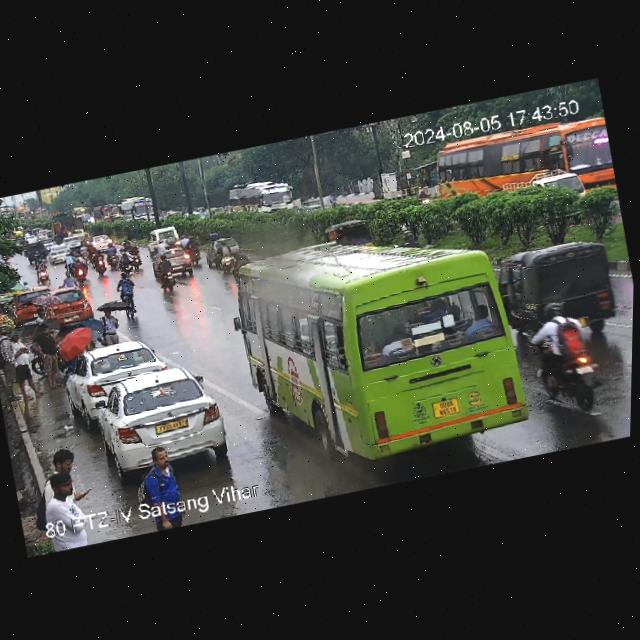bus: (223, 215, 524, 450), (426, 112, 617, 218), (209, 173, 295, 221)
car: (72, 359, 234, 483), (496, 236, 632, 352), (66, 336, 171, 406), (13, 280, 100, 333), (328, 218, 378, 251), (146, 223, 182, 248), (88, 231, 117, 249)
motorcycle: (529, 301, 599, 398), (207, 235, 248, 274), (151, 251, 187, 292), (110, 268, 141, 313), (115, 236, 143, 270), (181, 228, 202, 267), (64, 250, 91, 280), (88, 245, 110, 278), (103, 242, 123, 272), (35, 261, 49, 286)
person: (127, 443, 188, 508), (6, 324, 54, 398), (37, 471, 99, 527), (39, 444, 89, 500), (93, 305, 124, 349)
